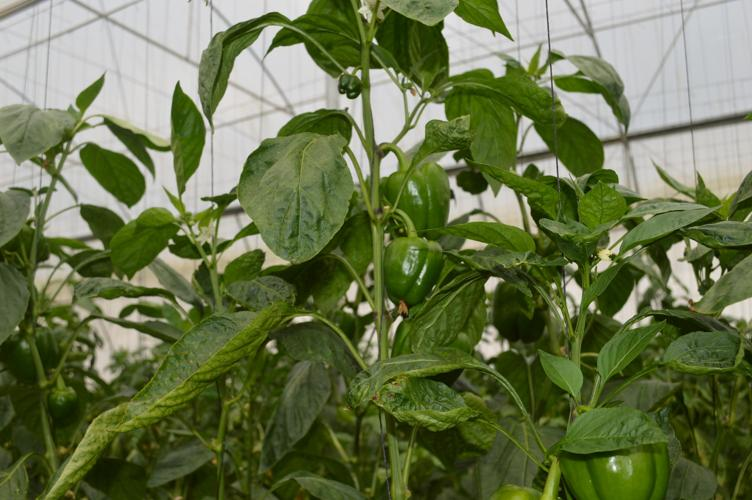BellPepper: (549, 421, 672, 500), (369, 157, 461, 246), (366, 238, 452, 311), (488, 279, 568, 349)
